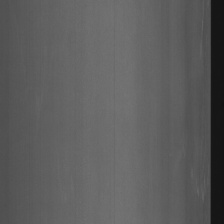silk_spot: (193, 148, 208, 217), (198, 6, 209, 66)
